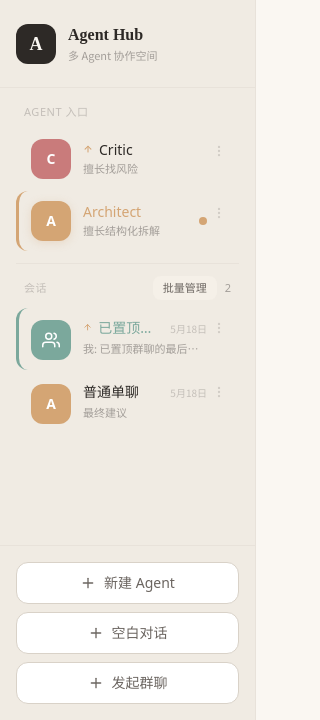
ConversationSidebar › 已置顶会话菜单显示取消置顶
Click the 1st button named "更多操作" at (219, 328), box [205,314,233,342]
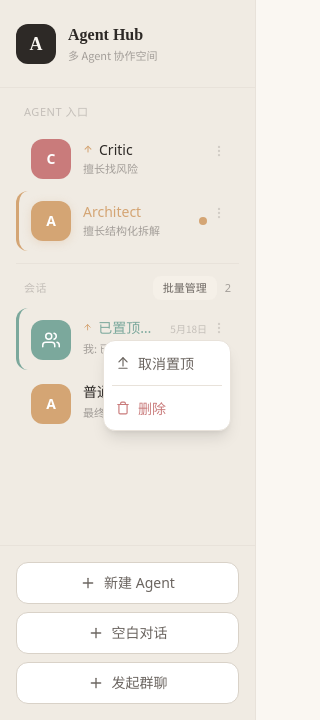
expect the button "取消置顶" is shown: met, box [104,345,230,381]
